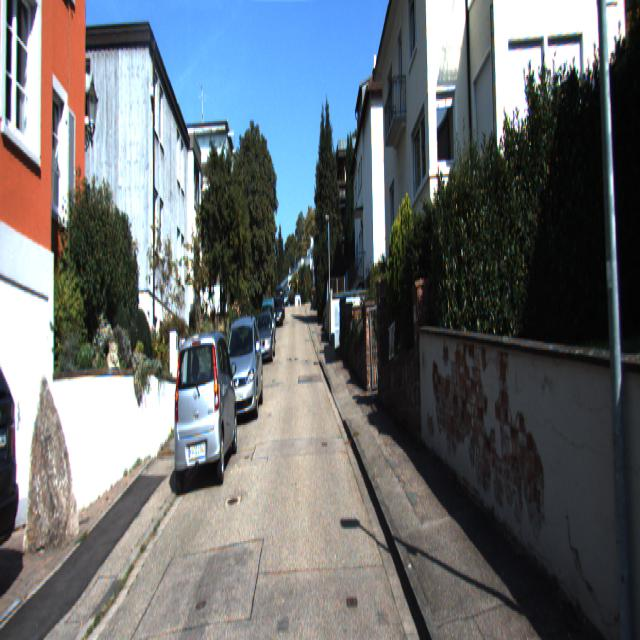Car: (171, 322, 239, 496), (219, 315, 265, 426), (254, 311, 276, 364)
